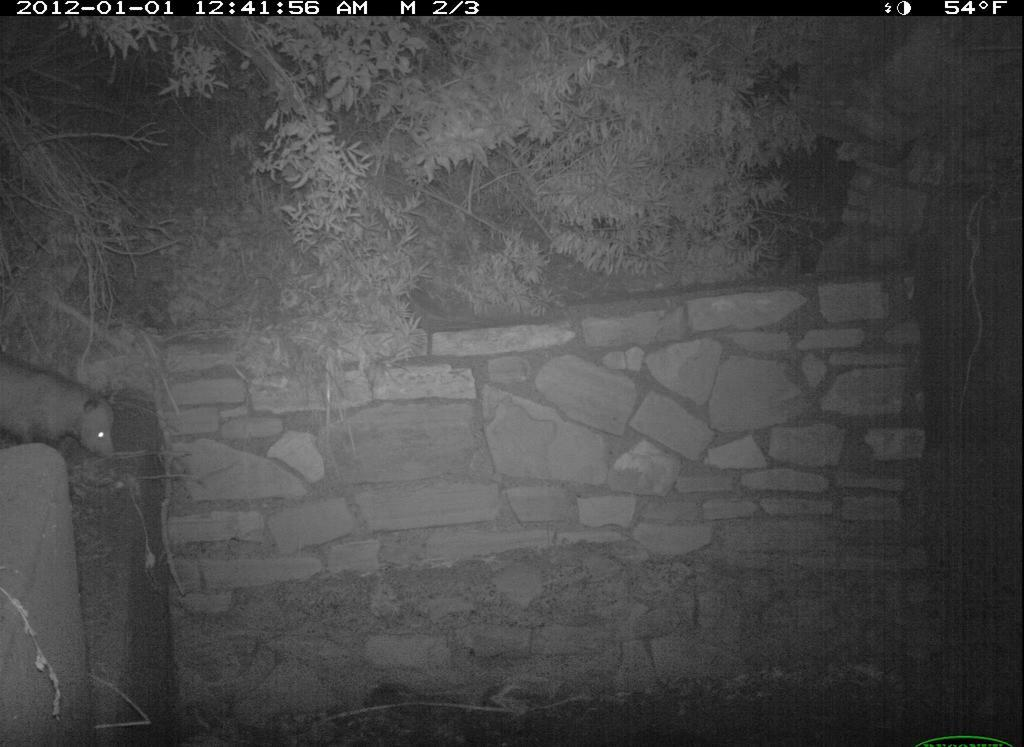opossum: (1, 351, 126, 478)
